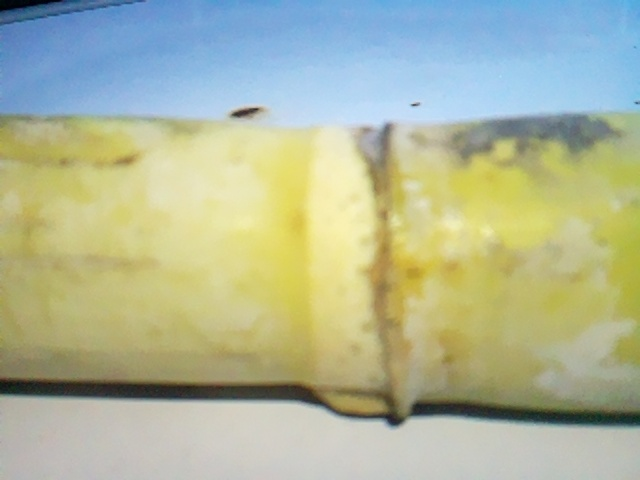Good Sugarcane: (0, 102, 633, 425)
Node: (290, 114, 455, 426)
